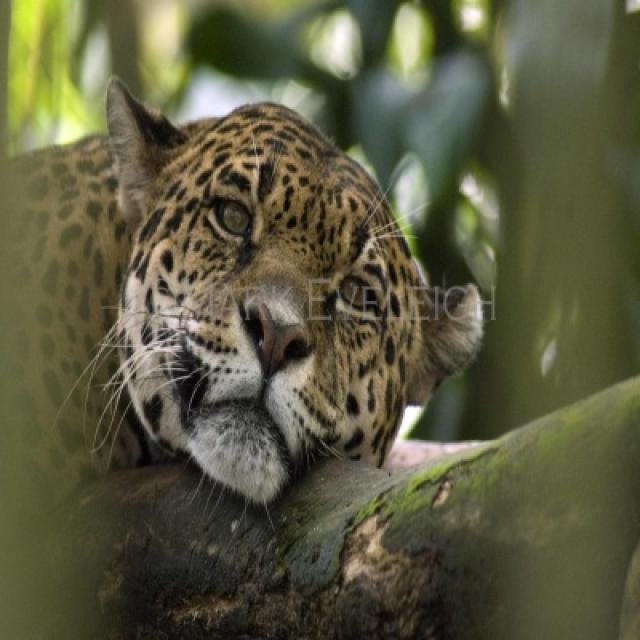Jaguar: (93, 78, 485, 510)
